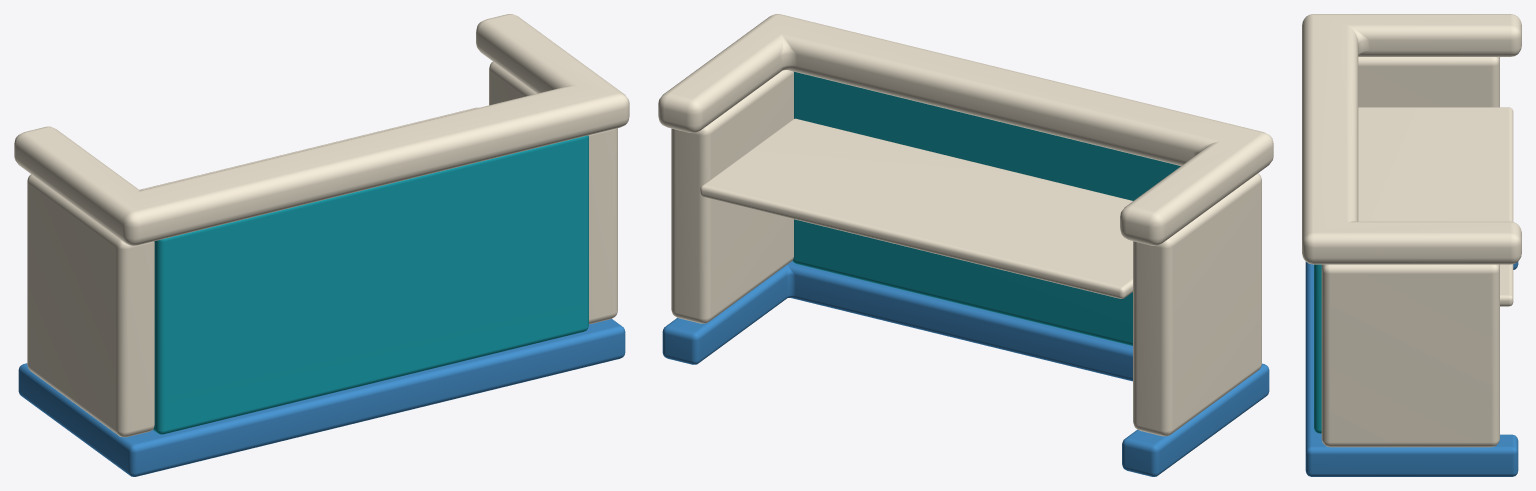
Rendered from reception.glb.
3 renders of one model, left to right at view 1: azimuth 30°, elevation 25°; view 2: azimuth 150°, elevation 25°; view 3: azimuth 270°, elevation 25°, orthographic. The views are drawn at different scales.
Parts seen in each view (by area): view 1: 01_Reception_Counter__Visual; view 2: 01_Reception_Counter__Visual; view 3: 01_Reception_Counter__Visual.
Part boxes in pixels (left/top/right/bottom): 01_Reception_Counter__Visual: left=14, top=14, right=629, bottom=476; 01_Reception_Counter__Visual: left=658, top=14, right=1273, bottom=476; 01_Reception_Counter__Visual: left=1302, top=14, right=1521, bottom=476.
Size of the model in its own units: 2.2 by 1.1 by 0.9.
Materials: 1 (1 with a texture image).
